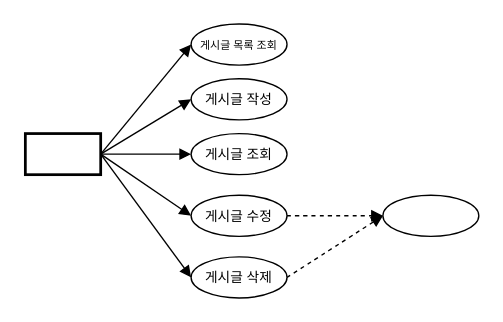
This 503x322 diagram has some shape labels left out. The centre of each missing label's shape, as x and y in pixels:
User: [62,153]
게시자 인증: [430,215]
